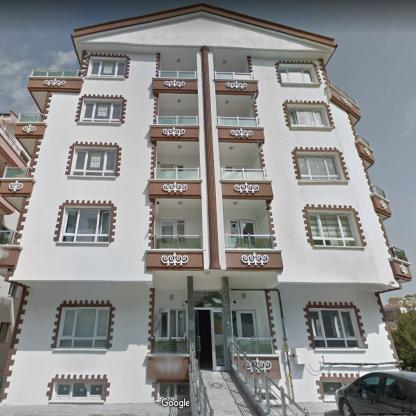door: (210, 308, 228, 370), (194, 308, 200, 369), (160, 308, 170, 338), (240, 219, 256, 234), (160, 219, 174, 235)
window: (309, 308, 363, 349), (58, 307, 109, 348), (59, 207, 111, 243), (308, 213, 359, 246), (71, 148, 116, 176), (297, 155, 342, 180), (81, 99, 121, 123), (288, 106, 330, 127), (54, 382, 104, 399), (232, 310, 258, 338), (89, 60, 125, 78), (158, 383, 189, 402), (280, 67, 315, 83), (322, 382, 352, 396), (177, 310, 185, 338), (1, 322, 10, 342), (176, 219, 185, 234), (231, 220, 240, 234), (8, 284, 17, 297)
